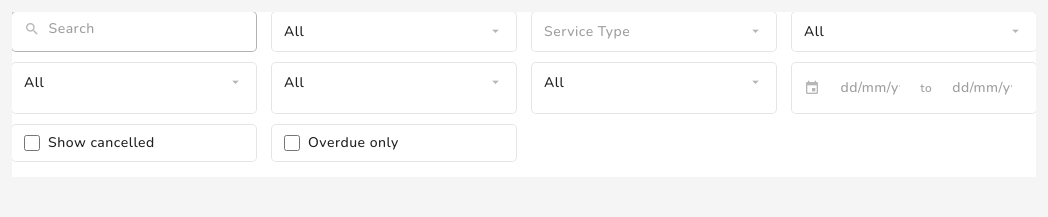
Test case: AppointmentFilters › suburb filter › renders the suburb options it is given
Click the button with aria-label "Suburb" at coordinates (134, 82), box [12,63,256,102]
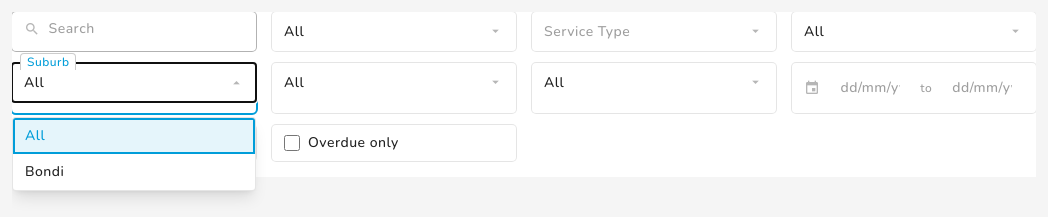
Expected: the list named "Suburb" shows "Bondi", [25,162,64,181]
